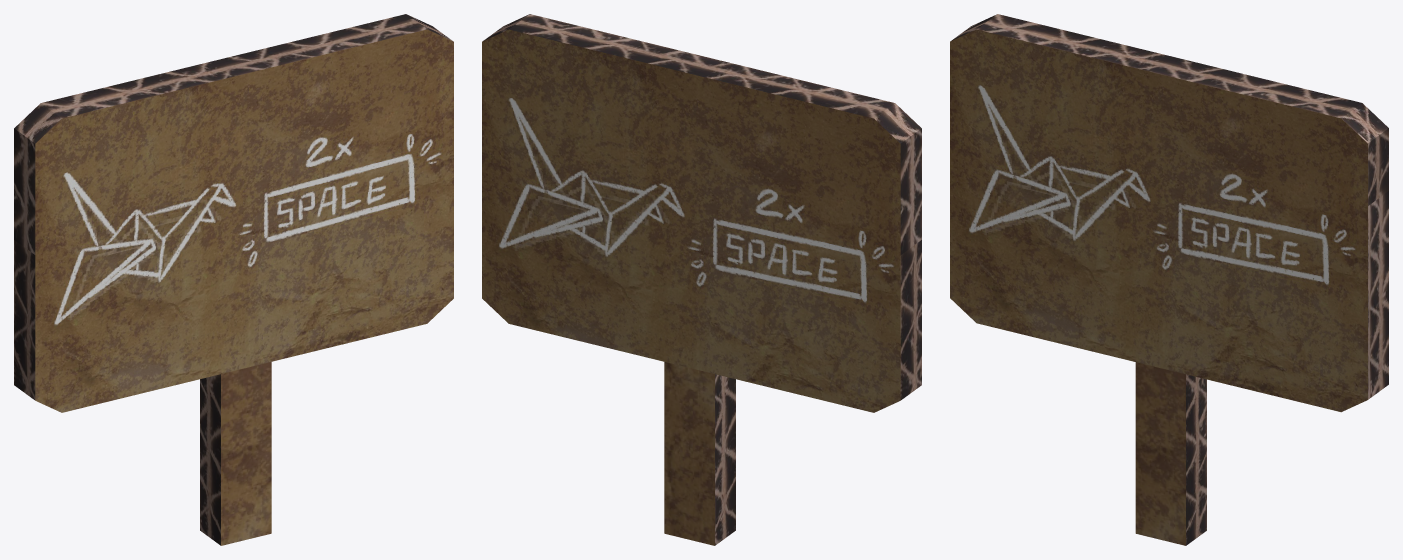
The model's file is M_SchildCrane2Jump.fbx.
3 views of the same model, side by side, from view 1: azimuth 30°, elevation 25°; view 2: azimuth 150°, elevation 25°; view 3: azimuth 330°, elevation 25° (orthographic).
Parts seen in each view (by area): view 1: Cube; view 2: Cube; view 3: Cube.
Part boxes in pixels (box(x1,y1,x2,y2)): Cube: box(14, 14, 453, 545); Cube: box(482, 14, 921, 545); Cube: box(950, 14, 1388, 545).
Size of the model in its own units: 200 by 213 by 17.52.
